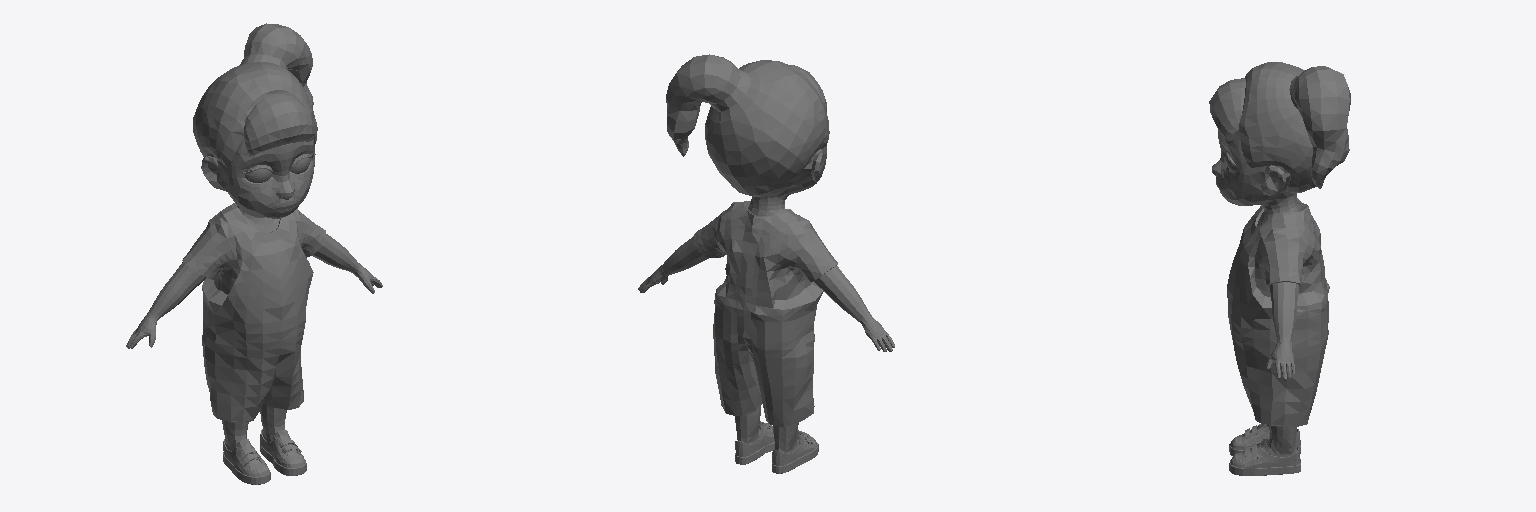
Rendered from Girl.obj.
3 renders of one model, left to right at view 1: azimuth 30°, elevation 25°; view 2: azimuth 150°, elevation 25°; view 3: azimuth 270°, elevation 25°, orthographic.
Parts seen in each view (by area): view 1: girl; view 2: girl; view 3: girl.
Boxes of the visible parts, <box> form: girl: <box>126,23,382,484</box>; girl: <box>638,54,894,473</box>; girl: <box>1209,62,1350,475</box>.
Bounding box in the file's own units: 79.56 × 123 × 38.32.